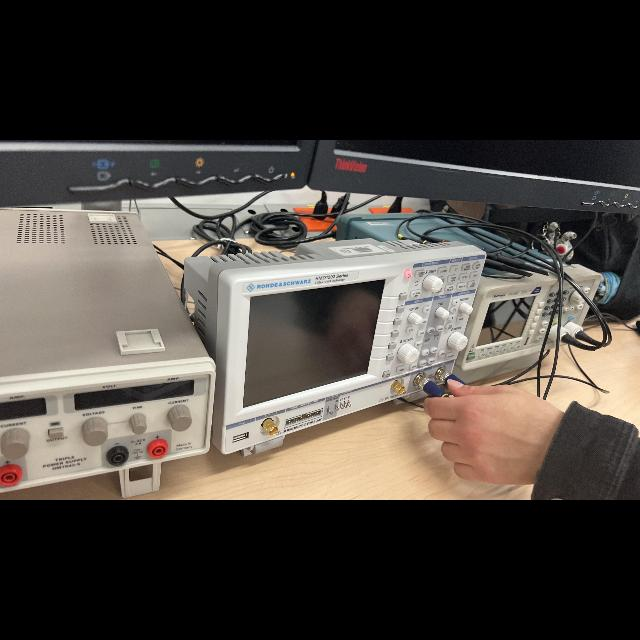Digital-Oscilloscope: (184, 239, 485, 454)
